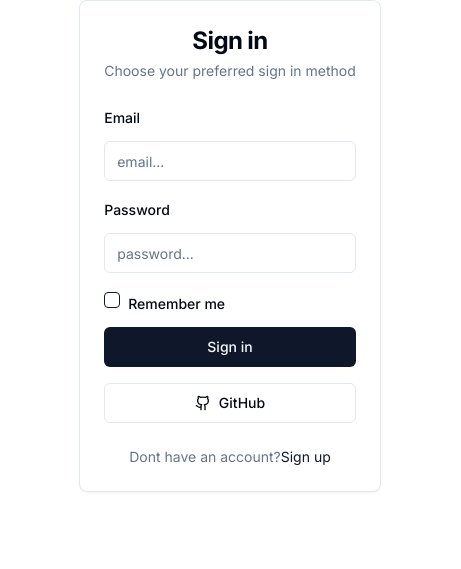
Test: SignIn › shows error message on valid submit, but no user is found
Type "test@gmail.com" into the field labelled "Email".
click(230, 161); type("test@gmail.com")  # box [104,141,356,181]
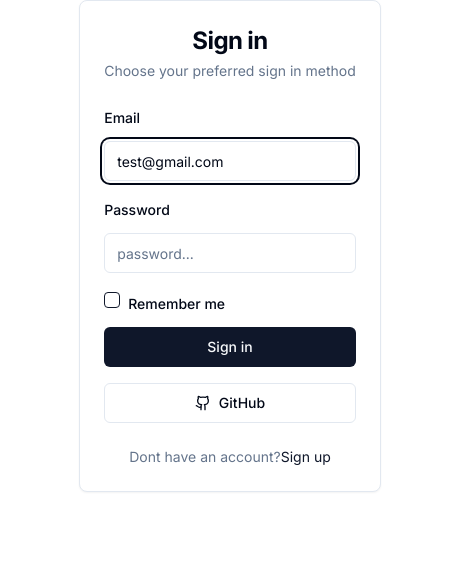
Type "testPass" into the password field labelled "Password".
click(230, 253); type("testPass")  # box [104,233,356,273]
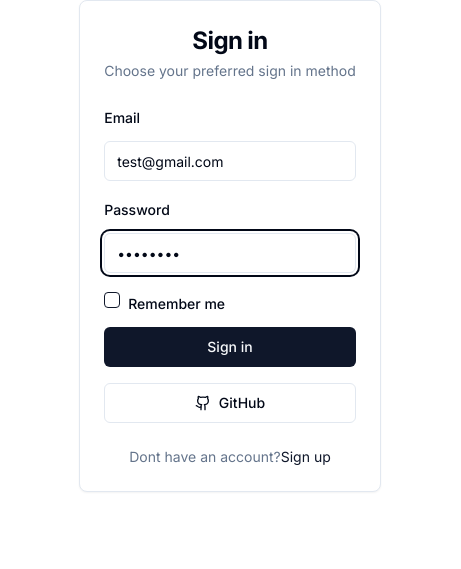
Click the checkbox named "Remember me".
click(112, 300)  # box [104,292,120,308]
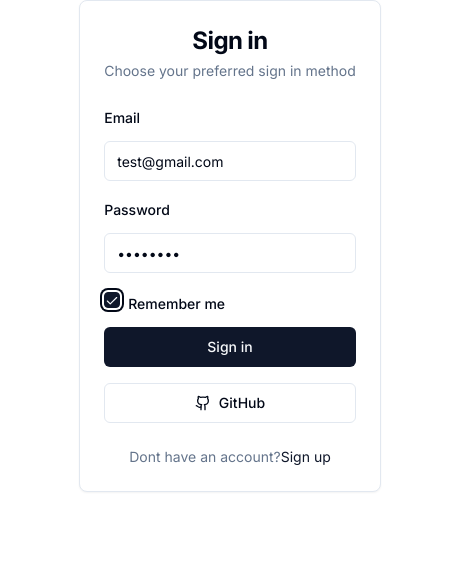
Click the button "Sign in".
click(230, 347)  # box [104,327,356,367]
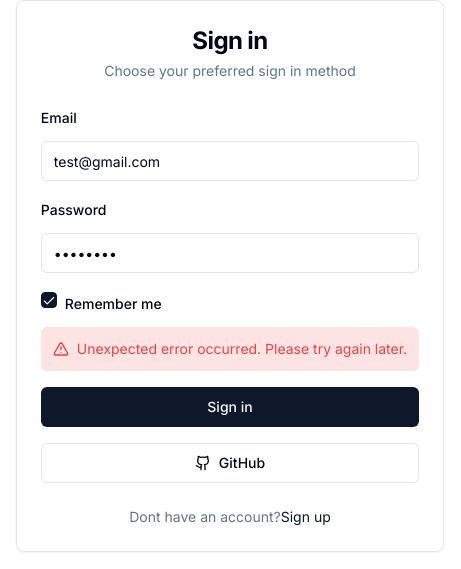
Check: the text "Unexpected error occurred. Please try again later." is shown, box [41,327,419,371]
